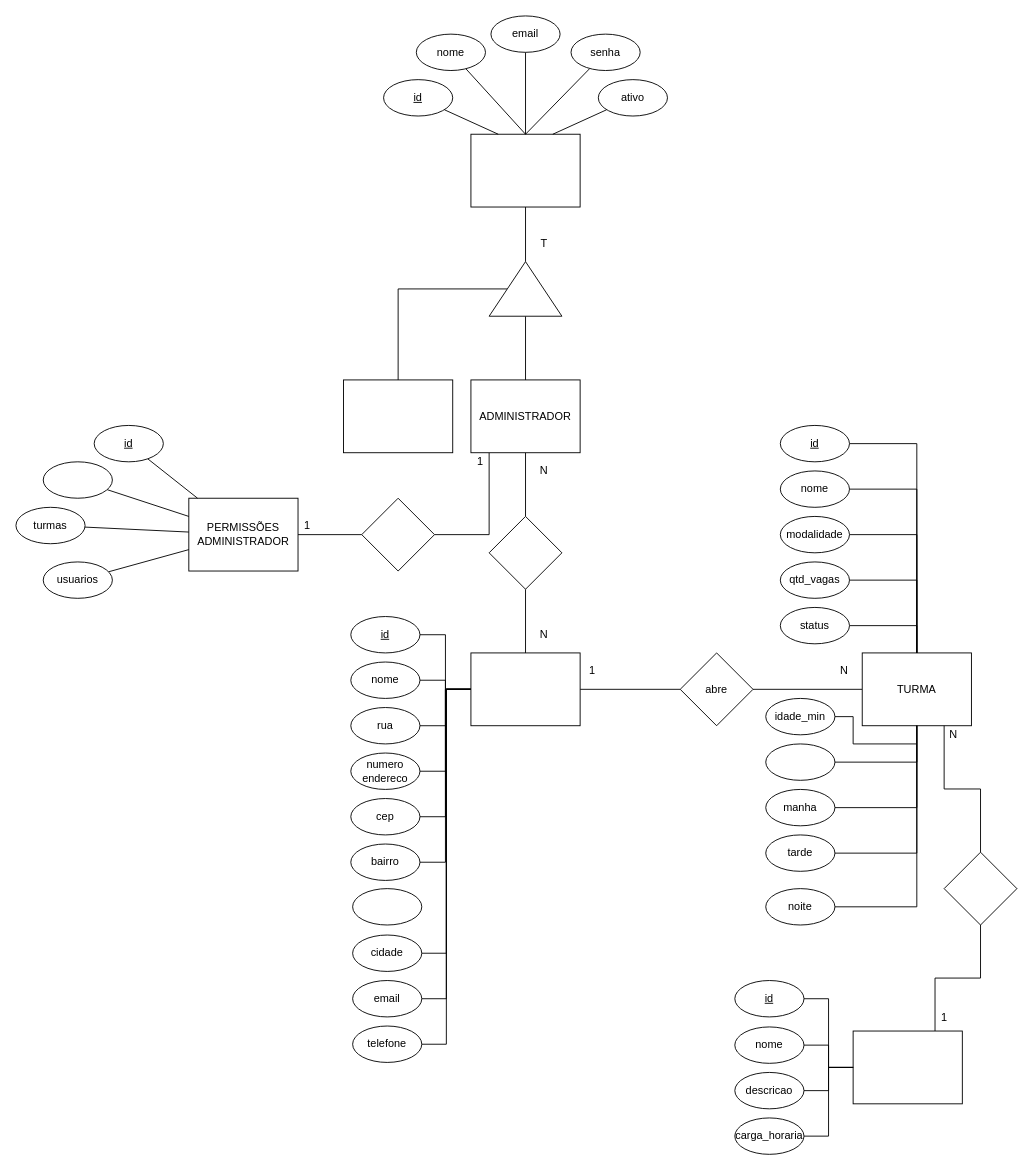
This 1033x1170 diagram has some shape labels left out. Here are the shapes that lost their labels. From the top down, the centre of each, then its label:
point (525, 170): USUÁRIO
point (398, 416): MASTER
point (77, 479): cursos
point (398, 534): possui
point (525, 552): gerencia
point (525, 689): UNIDADE
point (800, 761): idade_max
point (387, 906): estado
point (980, 888): contém
point (907, 1067): CURSO
